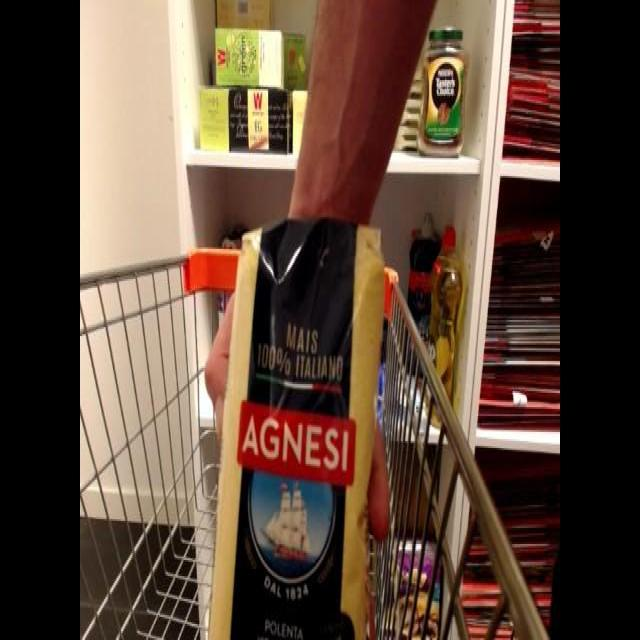Agnesi Polenta: (204, 212, 392, 634)
